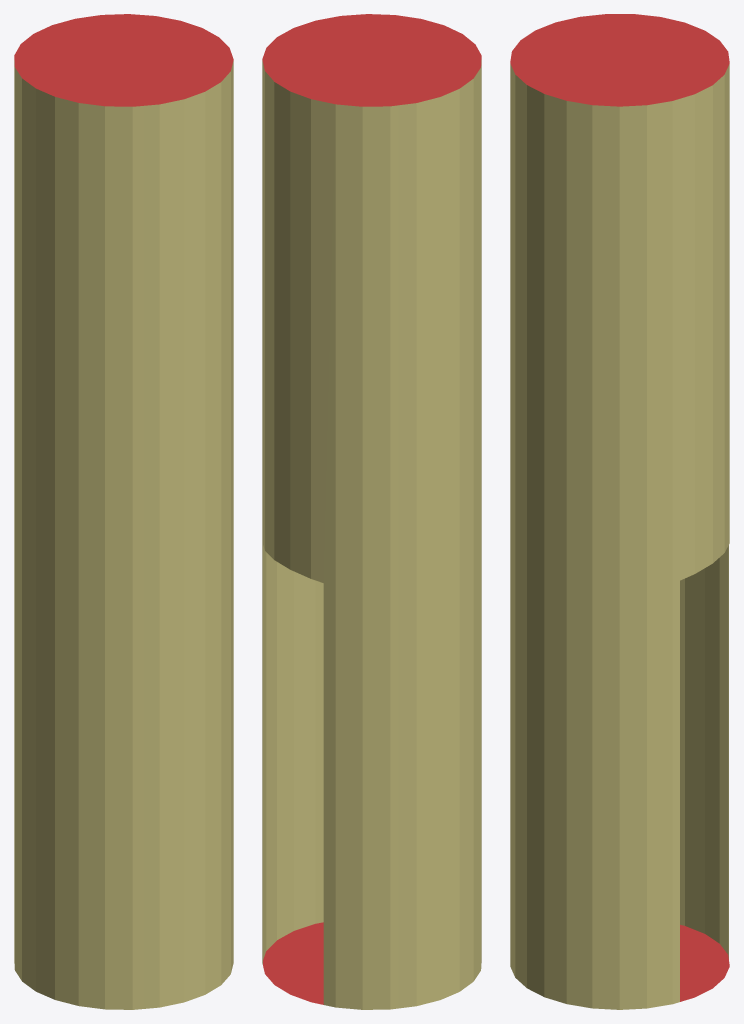
3 renders of one model, left to right at view 1: azimuth 30°, elevation 25°; view 2: azimuth 150°, elevation 25°; view 3: azimuth 270°, elevation 25°, orthographic.
Size of the model in its own units: 3.02 by 3.02 by 13.72.
